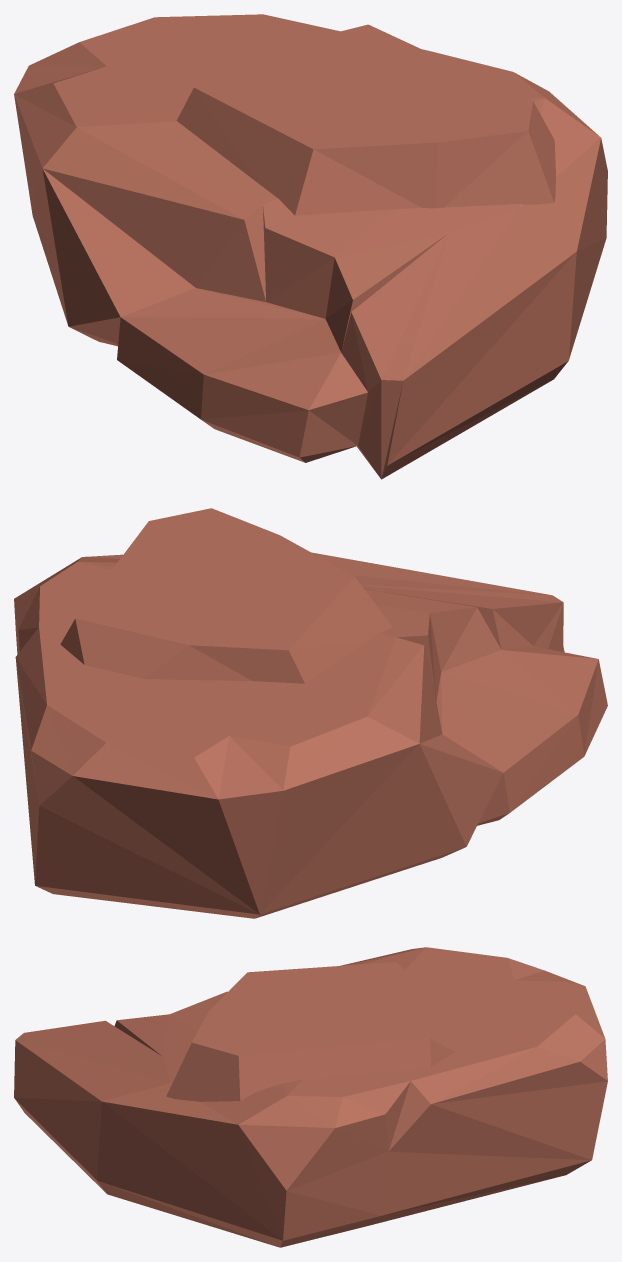
The model's file is rock_020.fbx.
The picture shows the model from 3 angles, top to bottom: view 1: azimuth 30°, elevation 25°; view 2: azimuth 150°, elevation 25°; view 3: azimuth 270°, elevation 25°; orthographic projection. The views are drawn at different scales.
Parts seen in each view (by area): view 1: rock_020; view 2: rock_020; view 3: rock_020.
Part boxes in pixels (box(x1,y1,x2,y2)): rock_020: box(14, 14, 607, 479); rock_020: box(14, 508, 607, 918); rock_020: box(14, 947, 607, 1247).
Bounding box in the file's own units: 342 × 442 × 138.
